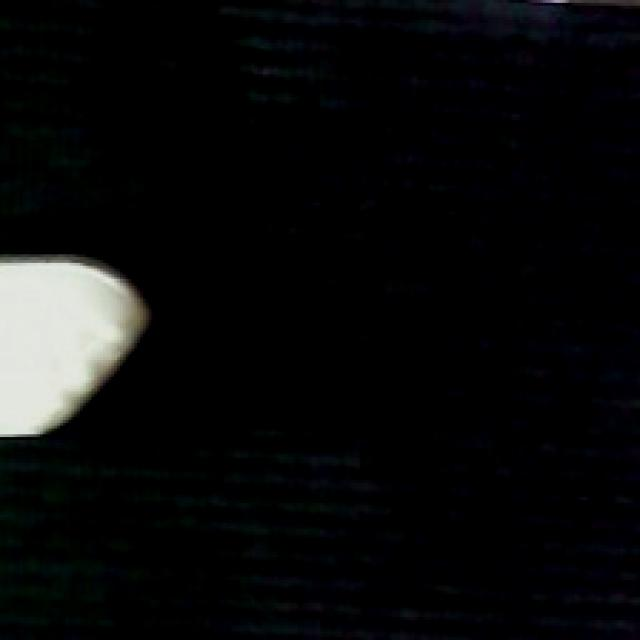defected: (0, 246, 160, 437)
